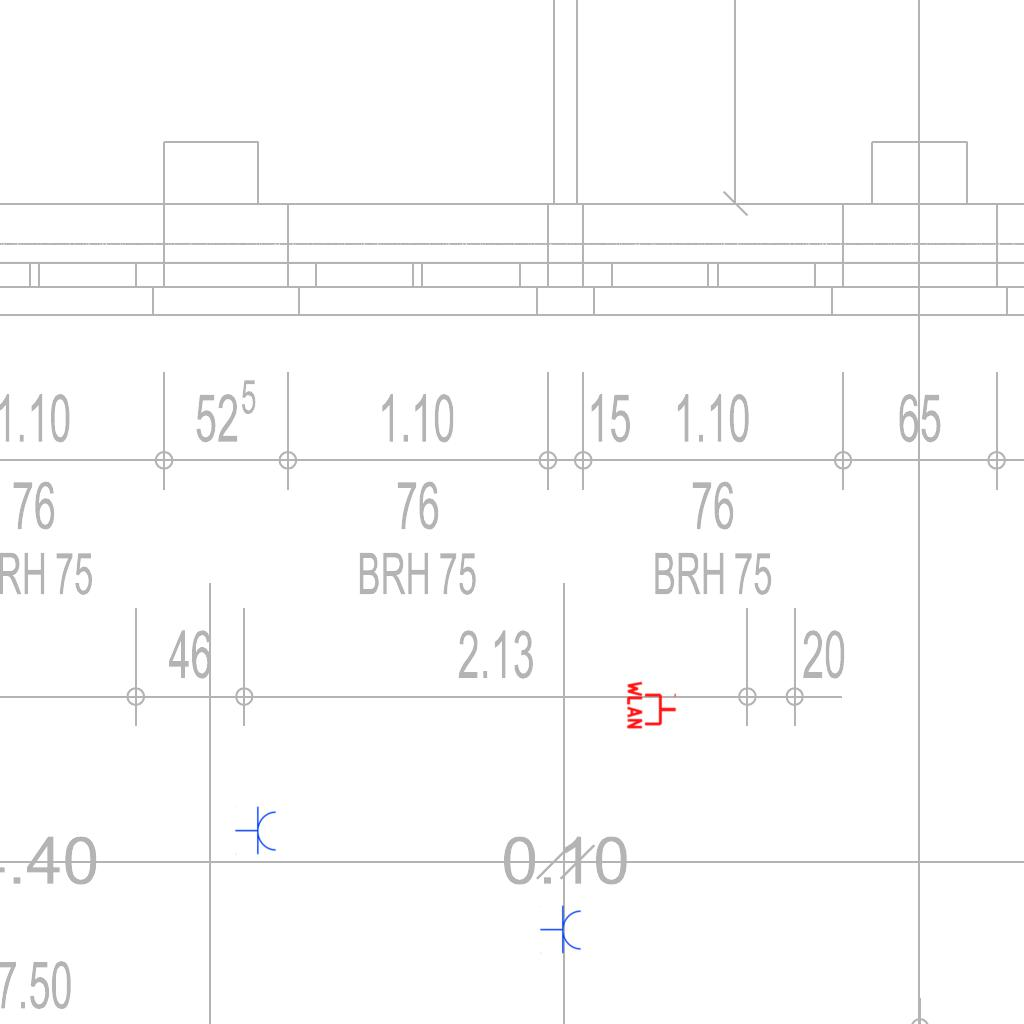Schukosteckdose_einfach: (235, 806, 278, 856), (540, 905, 583, 955)
WLAN: (626, 679, 678, 731)
